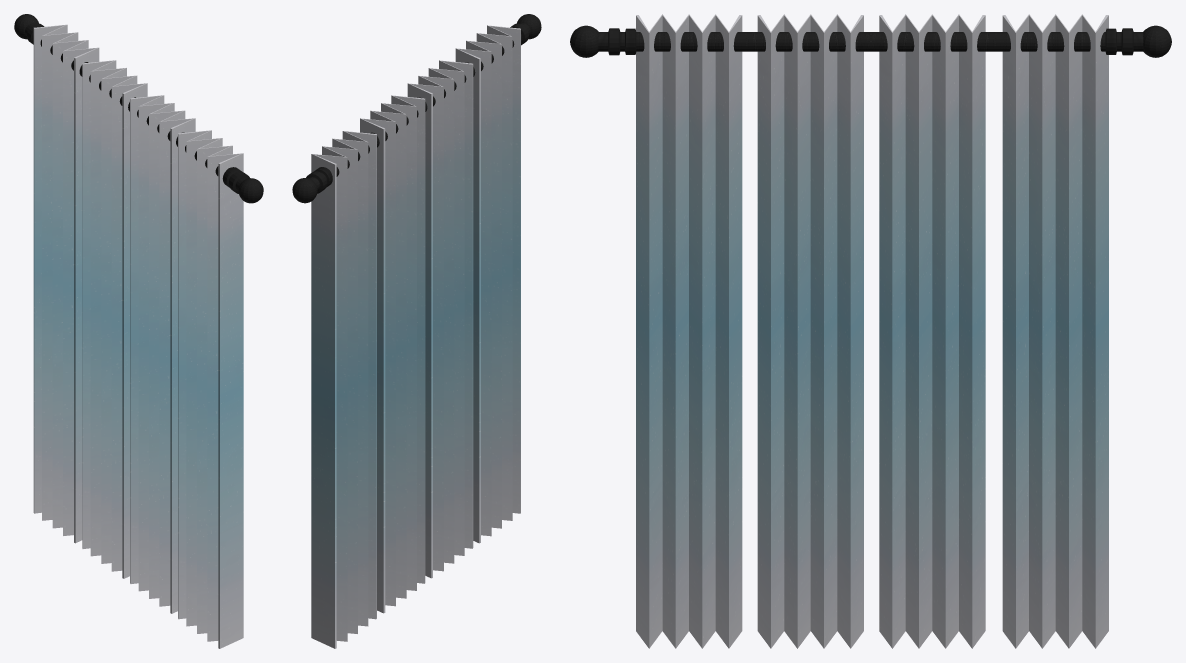
Rendered from modern curtain.fbx.
3 renders of one model, left to right at view 1: azimuth 30°, elevation 25°; view 2: azimuth 150°, elevation 25°; view 3: azimuth 270°, elevation 25°, orthographic. The views are drawn at different scales.
Parts seen in each view (by area): view 1: modern curtain; view 2: modern curtain; view 3: modern curtain.
Part boxes in pixels (x1=…): modern curtain: x1=14, y1=14, x2=263, y2=648; modern curtain: x1=292, y1=14, x2=541, y2=648; modern curtain: x1=570, y1=14, x2=1171, y2=648.
Size of the model in its own units: 15.25 by 229 by 202.
2 materials, 2 textured.
